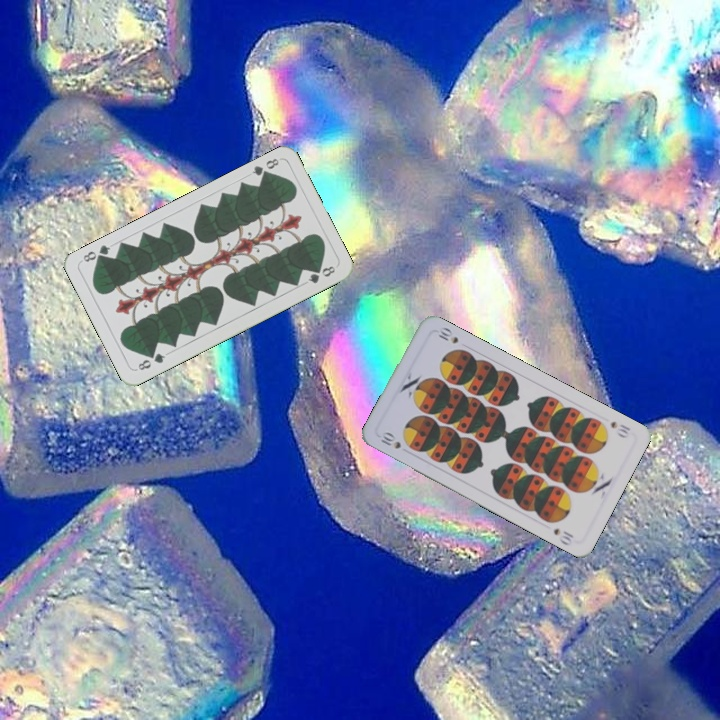G8: (248, 154, 281, 181), (134, 349, 168, 373)
S10: (606, 417, 633, 441), (377, 429, 404, 452)
